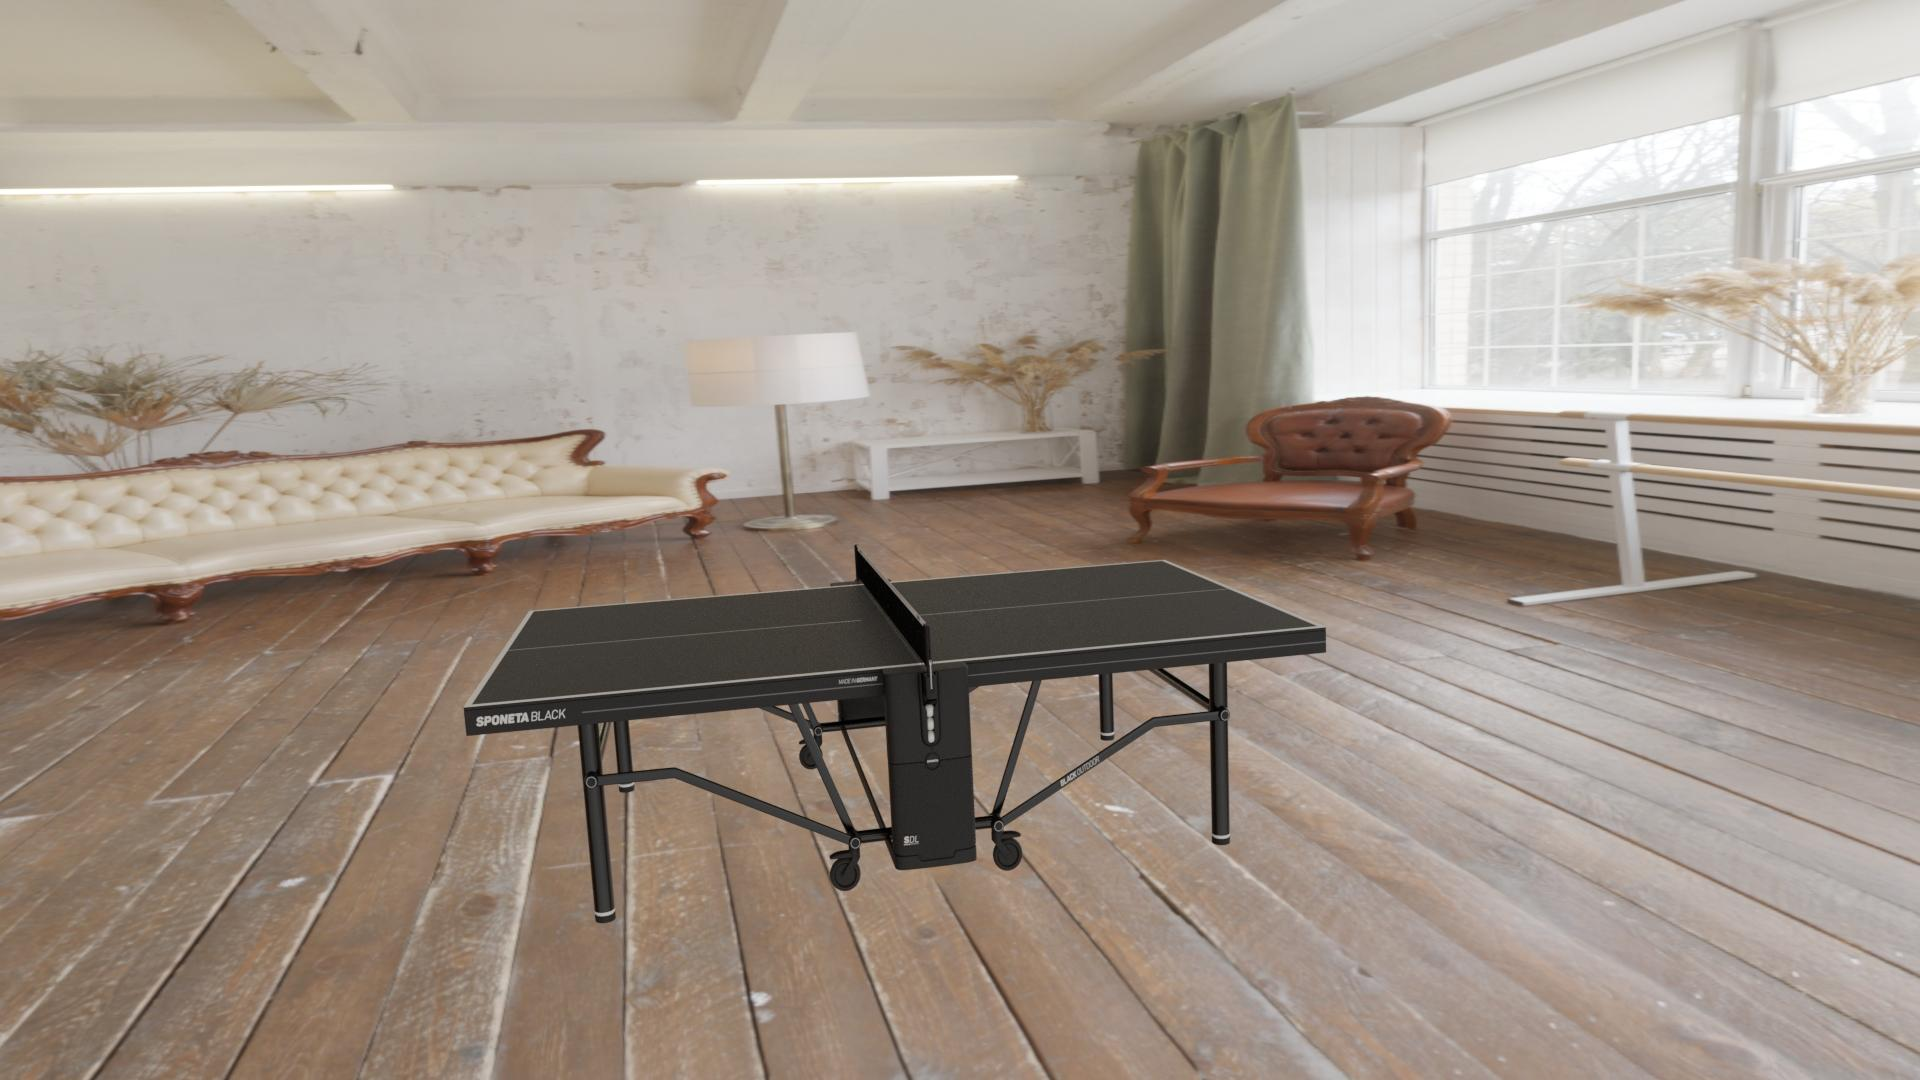table: (472, 560, 1317, 704)
